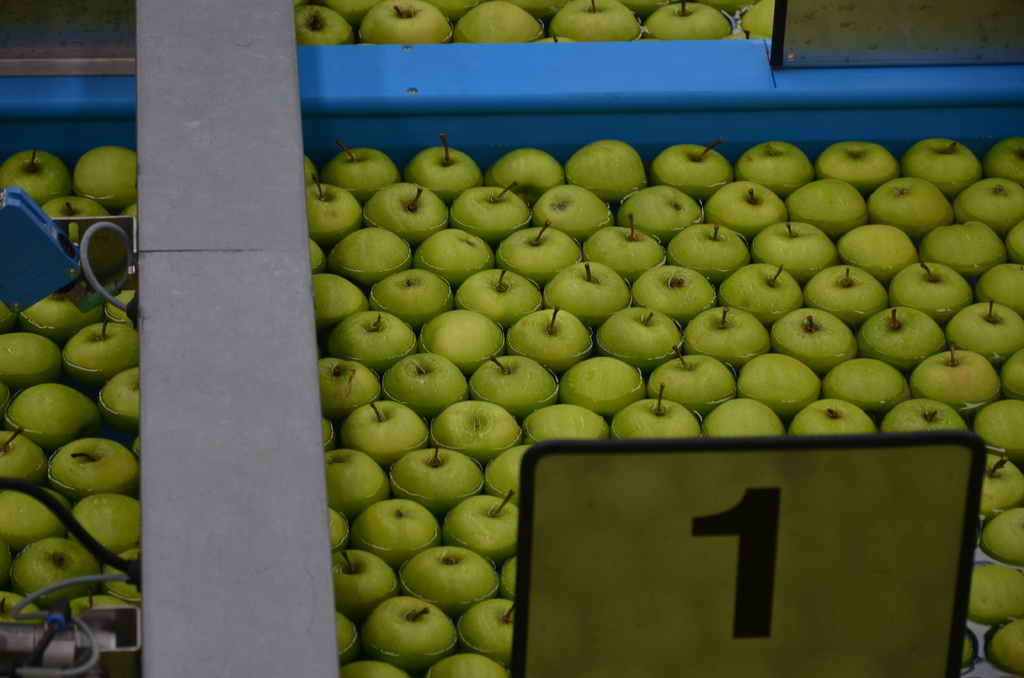Apple: (0, 134, 1023, 677), (292, 0, 780, 42), (399, 546, 497, 607)
